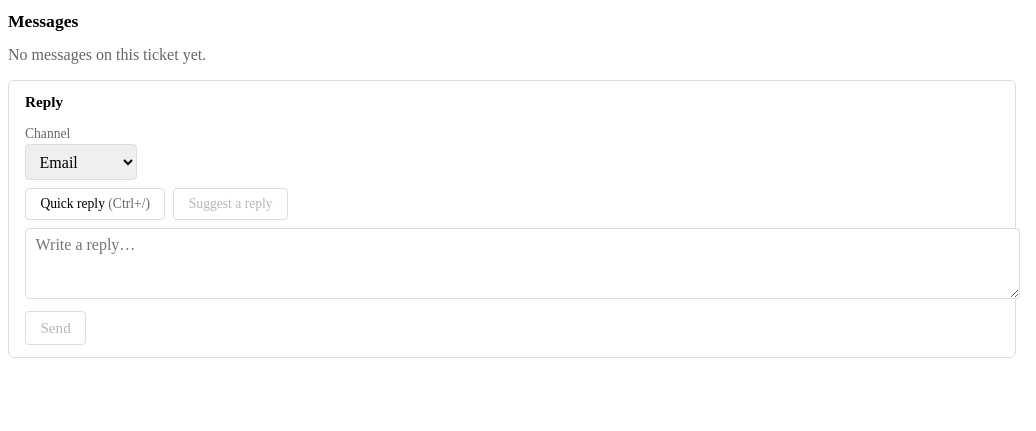
Scenario: MessagesPanel › sends the composed body on the selected channel and refreshes
Expected: the text "No messages on this ticket yet." is shown, [8, 46, 206, 63]
Select "WhatsApp" in the dropdown labelled "Channel": (81, 162) [25, 144, 137, 180]
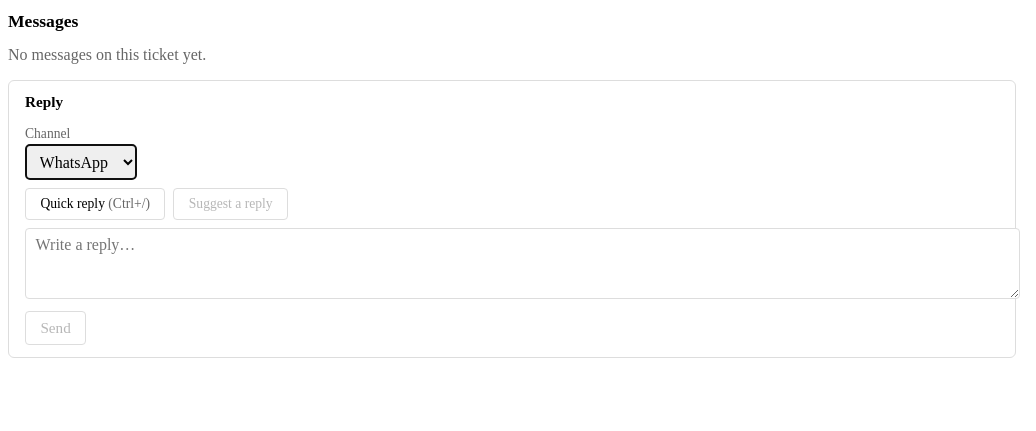
In the text box named "Message body": (523, 263) [25, 228, 1020, 298], type "On its way"
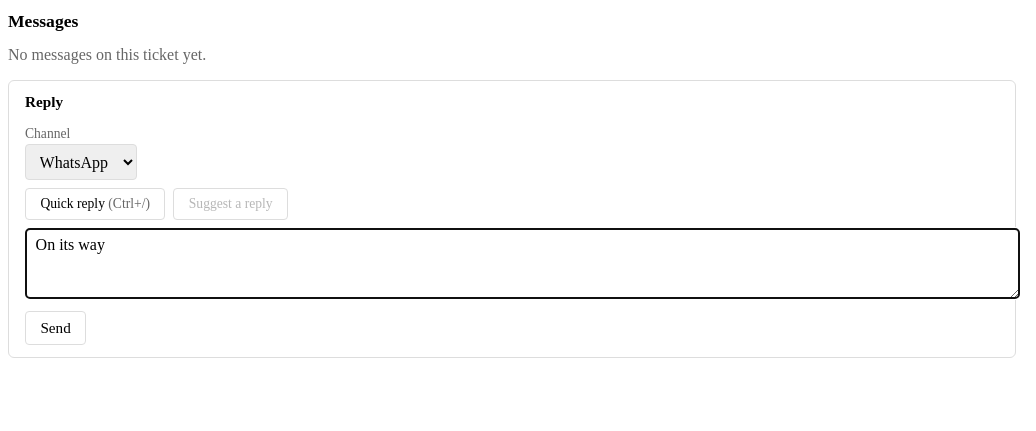
Click the button "Send": (56, 328) [25, 310, 86, 345]
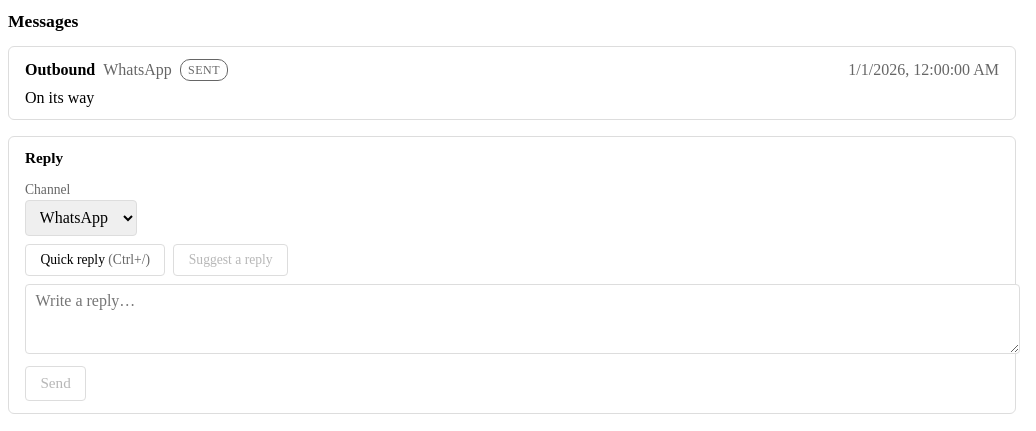
Result: the text "On its way" is shown at [25, 89, 94, 106]
Result: the text box named "Message body" is empty at [25, 284, 1020, 354]
